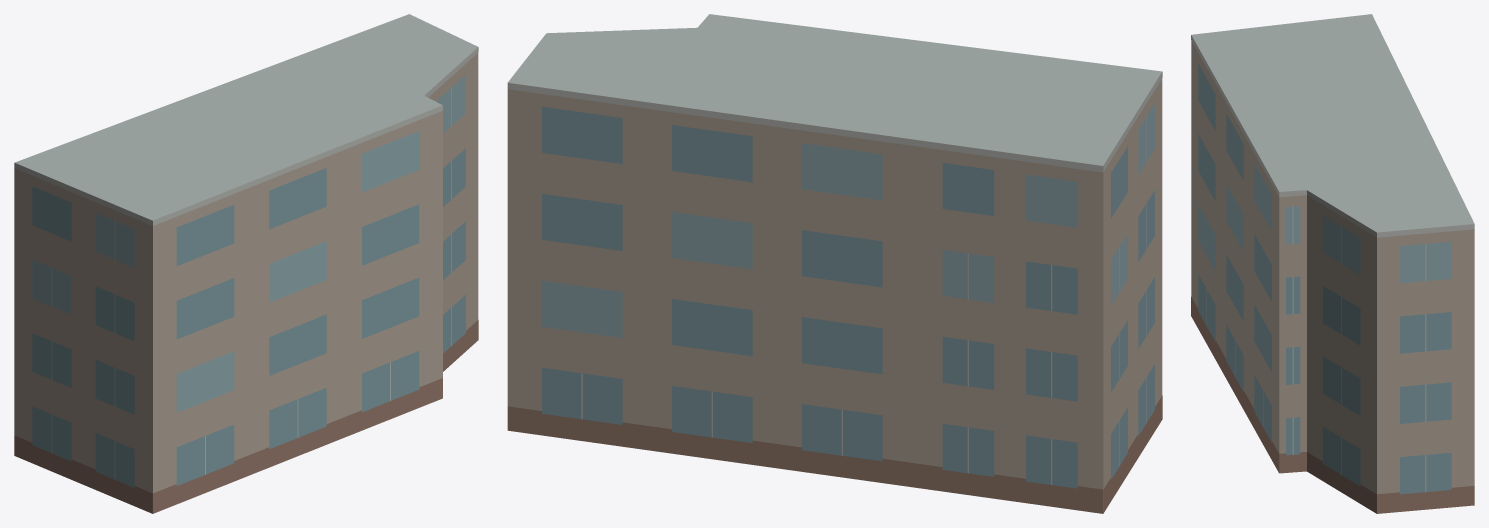
File: survey-upis-32606051.glb
3 views of the same model, side by side, from view 1: azimuth 30°, elevation 25°; view 2: azimuth 150°, elevation 25°; view 3: azimuth 270°, elevation 25° (orthographic). The views are drawn at different scales.
Visible parts, largest first — view 1: survey-upis-32606051.tmp; view 2: survey-upis-32606051.tmp; view 3: survey-upis-32606051.tmp.
Boxes of the visible parts, x1,y1,x2,y2 form: survey-upis-32606051.tmp: (14,14,478,513); survey-upis-32606051.tmp: (507,14,1162,513); survey-upis-32606051.tmp: (1191,14,1474,513).
Bounding box in the file's own units: 22 × 13.2 × 12.07.
